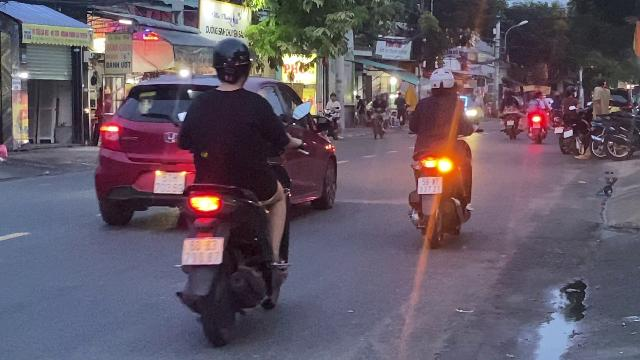helmet: (209, 36, 253, 84), (428, 68, 457, 96)
licenseplate: (182, 238, 224, 264), (418, 176, 442, 194)
motorcyclist: (170, 35, 300, 347), (403, 66, 479, 246)
